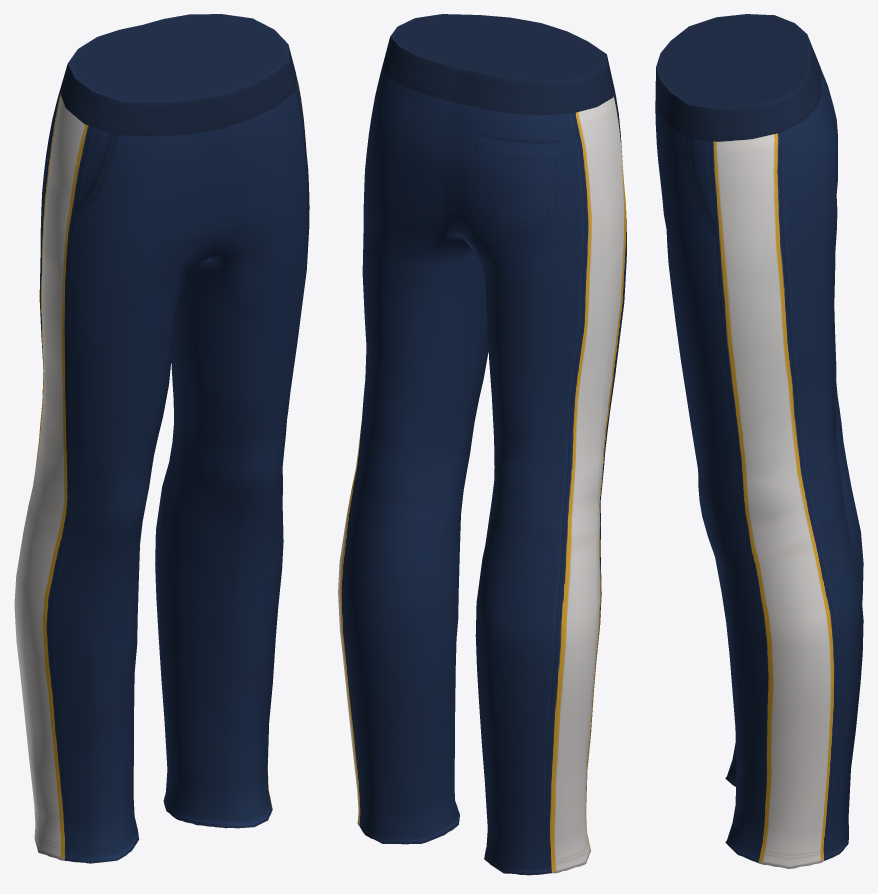
Rendered from 14_pants.glb.
3 renders of one model, left to right at view 1: azimuth 30°, elevation 25°; view 2: azimuth 150°, elevation 25°; view 3: azimuth 270°, elevation 25°, orthographic. The views are drawn at different scales.
Parts seen in each view (by area): view 1: pants; view 2: pants; view 3: pants.
Boxes of the visible parts, x1,y1,x2,y2 form: pants: (14,14,309,863); pants: (338,14,626,875); pants: (655,14,863,868).
Size of the model in its own units: 0.3276 by 1 by 0.2442.
Materials: 1 (1 with a texture image).
